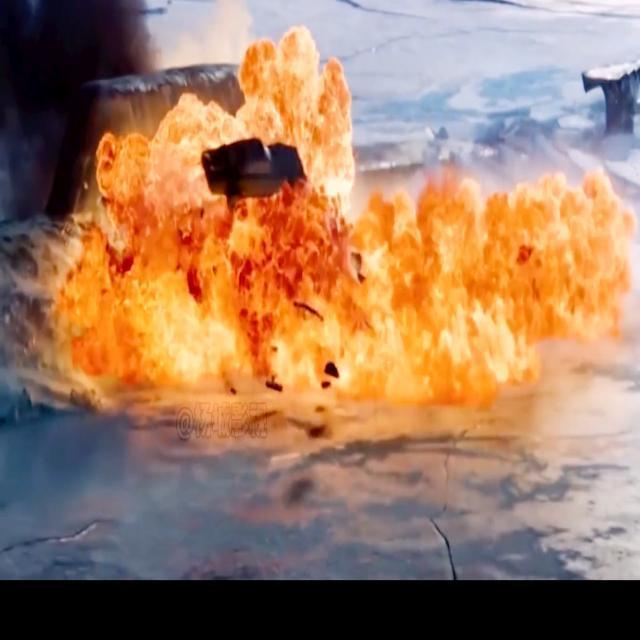fire: (56, 24, 624, 420)
